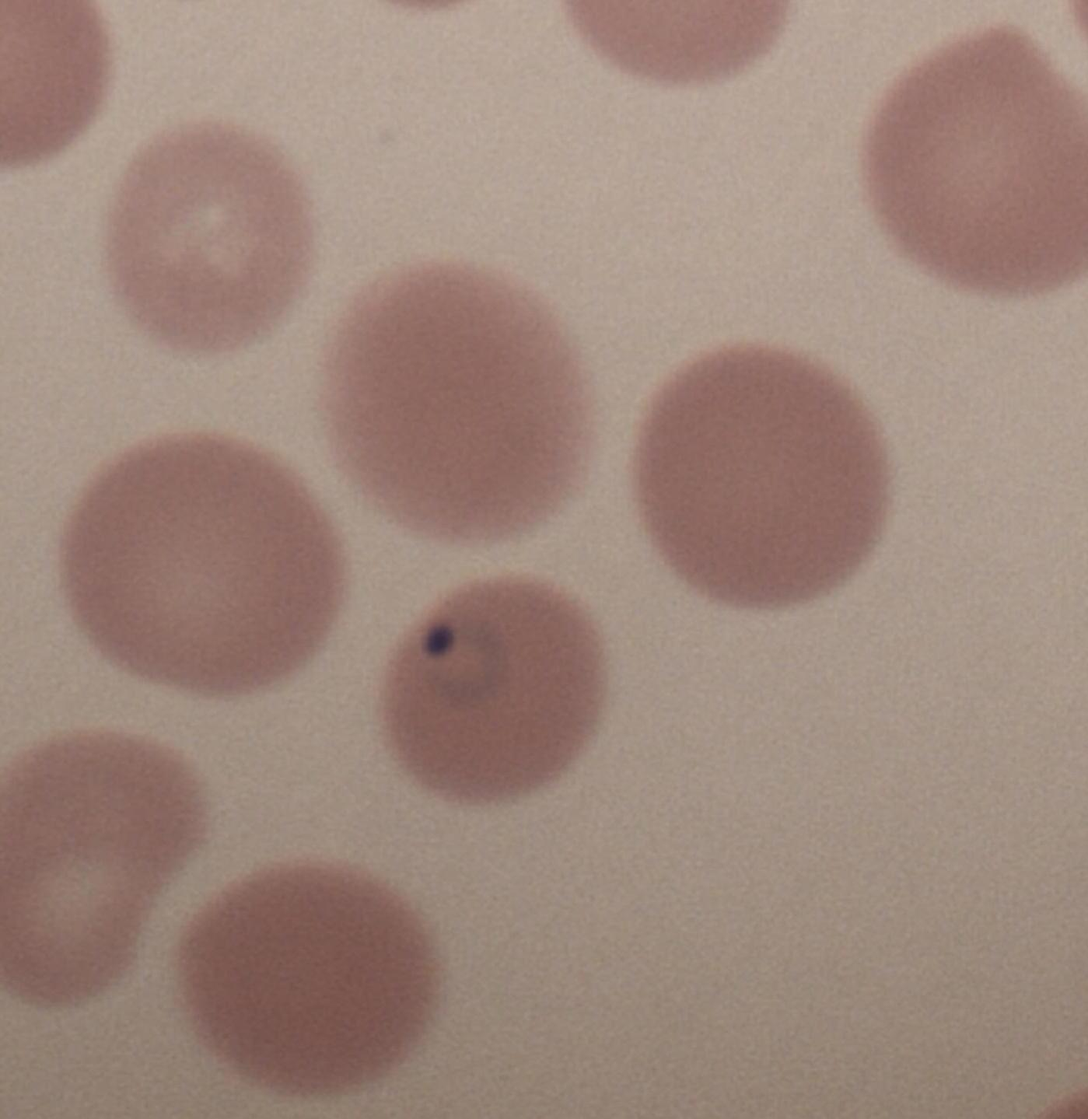Infected: (373, 571, 617, 807)
Uninfected: (321, 255, 595, 551), (73, 434, 344, 698), (630, 348, 890, 611), (866, 22, 1088, 300), (184, 861, 451, 1087), (119, 130, 311, 350)
